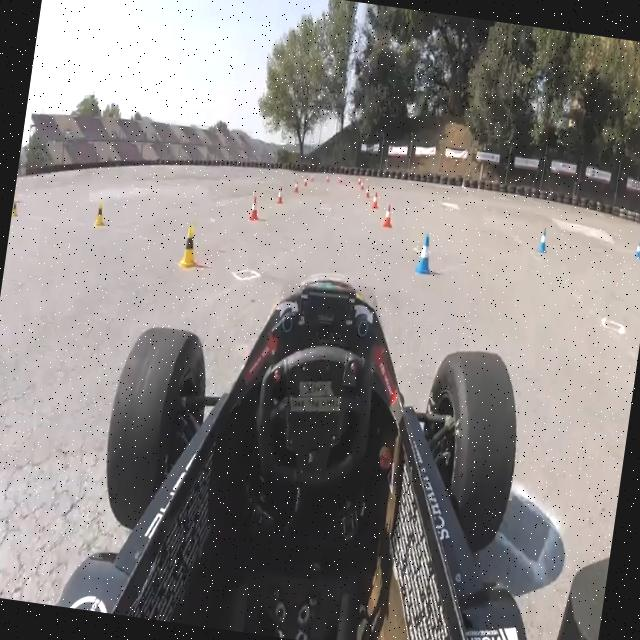blue_cone: (411, 228, 438, 278), (536, 224, 550, 256), (633, 236, 640, 260)
orange_cone: (248, 192, 263, 224), (380, 200, 396, 230), (370, 189, 380, 211), (276, 186, 286, 206), (364, 184, 372, 199), (292, 180, 300, 194)
yellow_cone: (177, 222, 203, 273), (93, 200, 108, 230), (11, 197, 21, 218)
